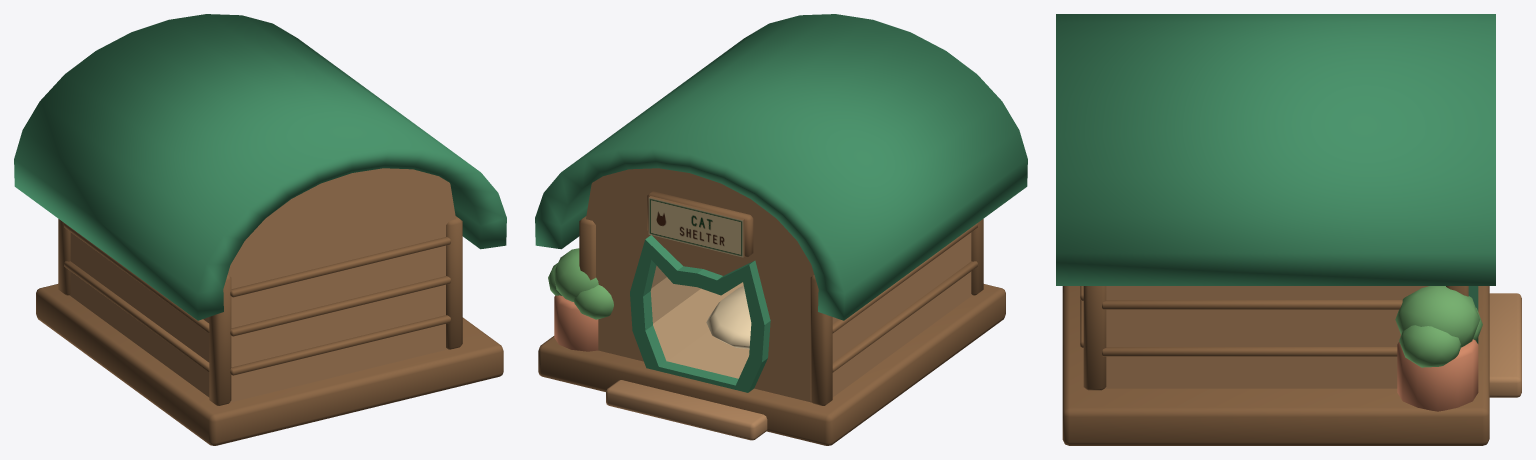
Rendered from shelter_house.glb.
3 renders of one model, left to right at view 1: azimuth 30°, elevation 25°; view 2: azimuth 150°, elevation 25°; view 3: azimuth 270°, elevation 25°, orthographic. The views are drawn at different scales.
Parts seen in each view (by area): view 1: Shelter_House; view 2: Shelter_House; view 3: Shelter_House.
Boxes of the visible parts, box(x1,y1,x2,y2) form: Shelter_House: box(14, 14, 506, 445); Shelter_House: box(535, 14, 1027, 445); Shelter_House: box(1056, 14, 1521, 445).
Bounding box in the file's own units: 1.37 × 1.08 × 1.44.
9 materials, 1 textured.
